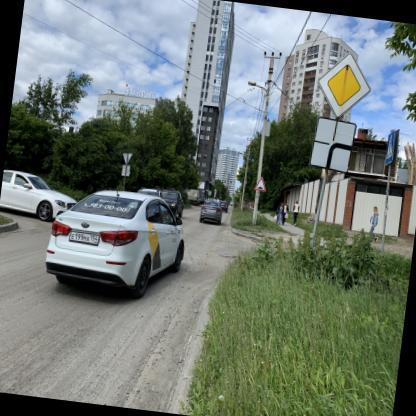road_sign: (319, 55, 370, 117), (307, 118, 358, 174), (384, 130, 399, 166), (255, 174, 266, 191)
